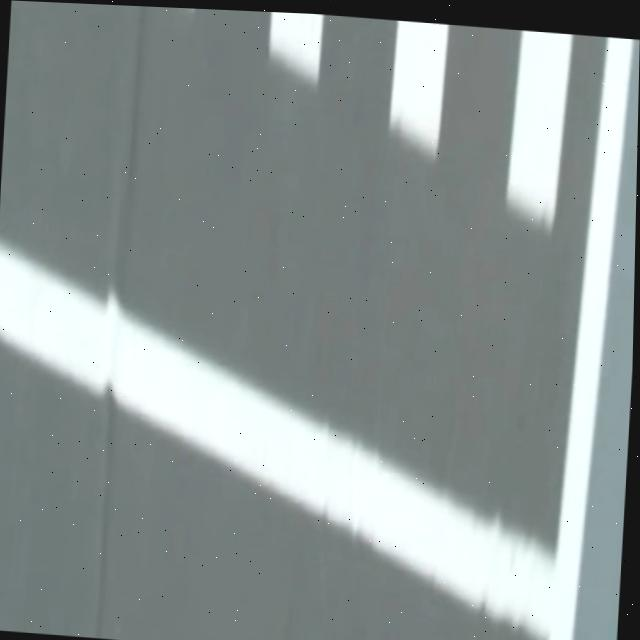left: (548, 37, 635, 640)
